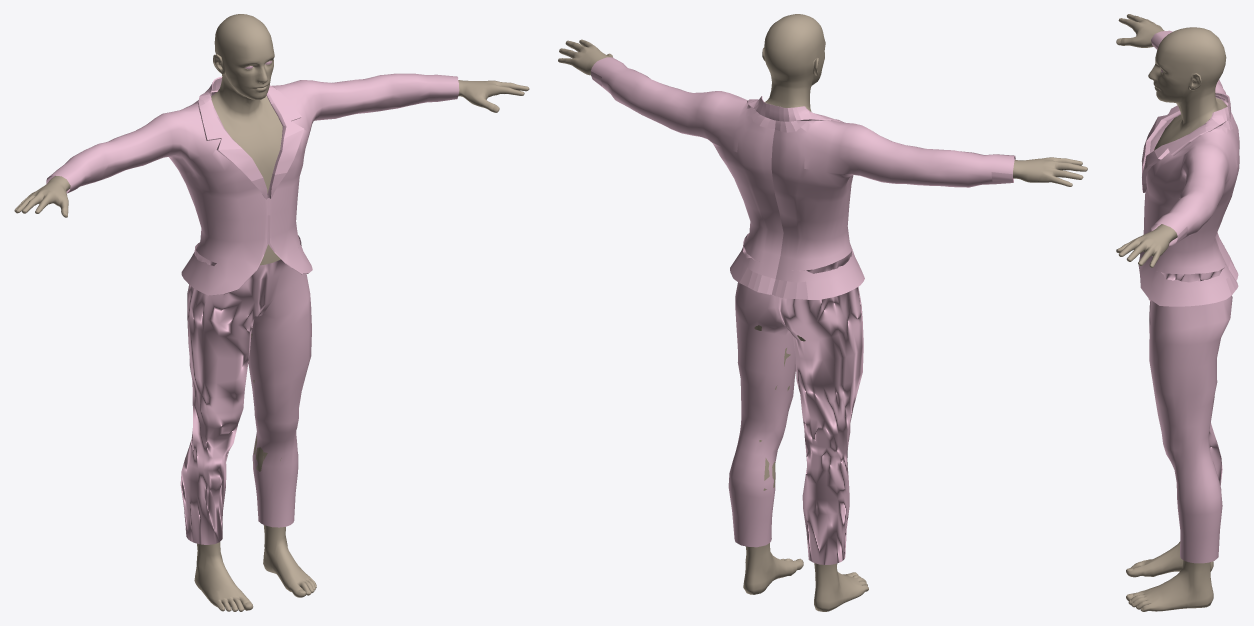
Rendered from Suit_Male_nClothes.fbx.
The picture shows the model from 3 angles, left to right: view 1: azimuth 30°, elevation 25°; view 2: azimuth 150°, elevation 25°; view 3: azimuth 270°, elevation 25°; orthographic projection. The views are drawn at different scales.
Parts seen in each view (by area): view 1: suit, pants, body; view 2: suit, pants, body; view 3: suit, pants, body.
Part boxes in pixels (bbox=[...]): suit: bbox=[46, 73, 459, 295]; pants: bbox=[180, 235, 311, 544]; body: bbox=[14, 14, 529, 611]; suit: bbox=[591, 57, 1015, 299]; pants: bbox=[728, 233, 863, 564]; body: bbox=[558, 14, 1087, 611]; suit: bbox=[1138, 30, 1239, 306]; pants: bbox=[1148, 267, 1232, 563]; body: bbox=[1116, 14, 1227, 611].
Bounding box in the file's own units: 339 × 359 × 71.69.
